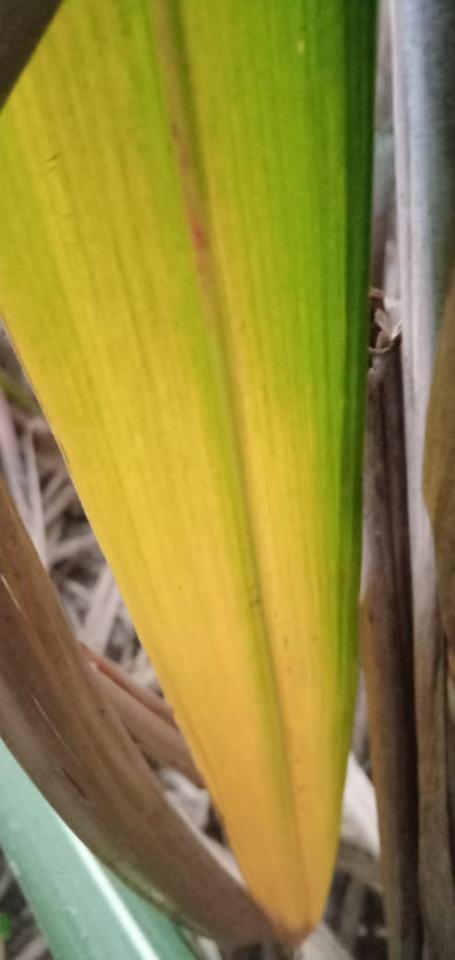RedRot: (172, 126, 207, 274)
Yellow: (0, 0, 356, 929)
